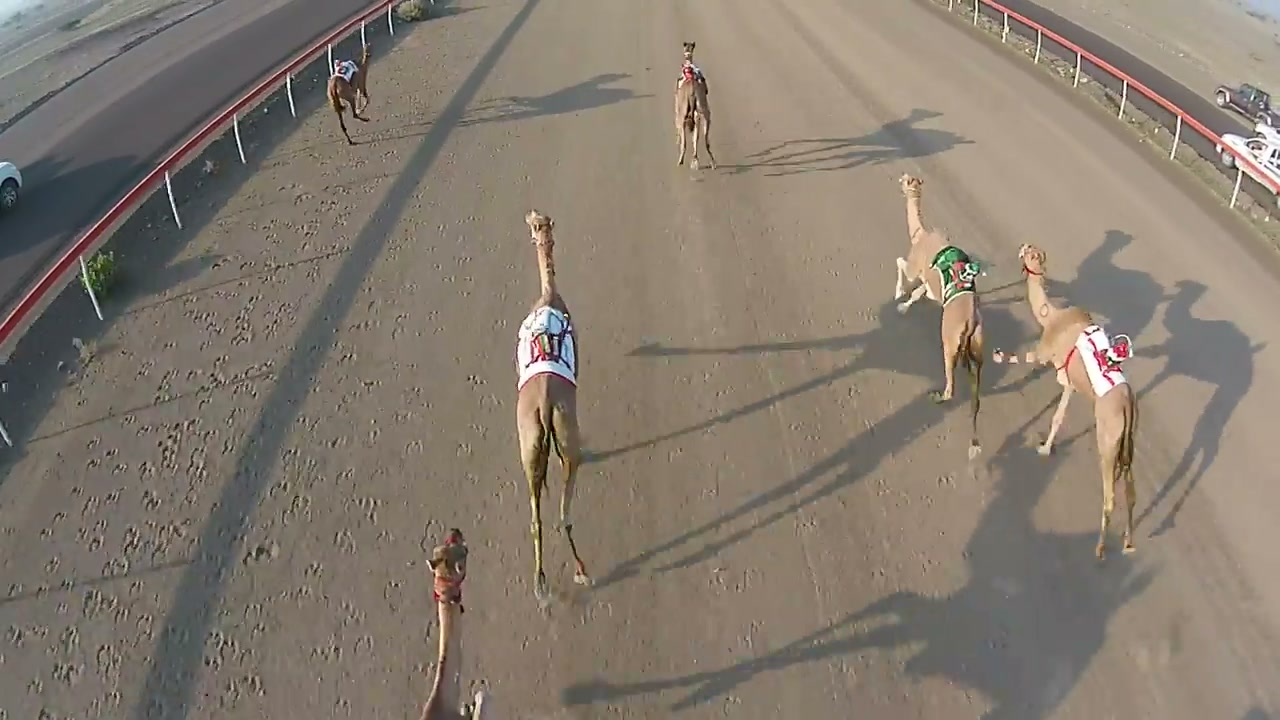animal_footprint: (33, 129, 399, 709), (198, 282, 488, 706)
